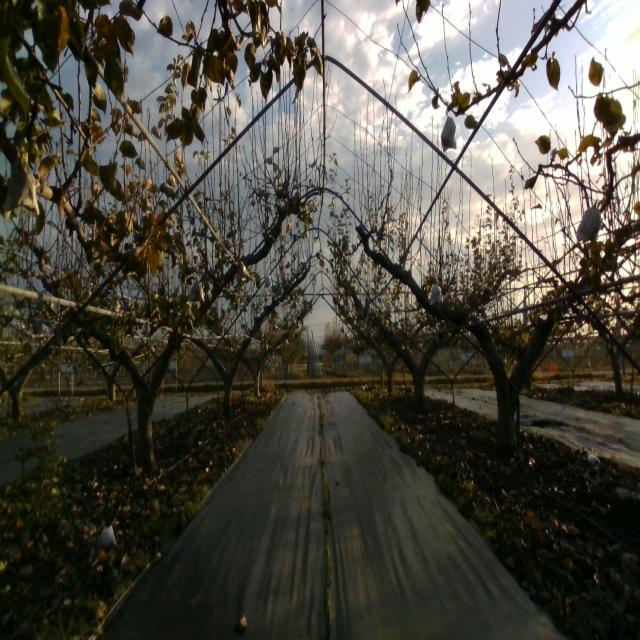pearbags: (2, 147, 40, 220), (576, 199, 602, 242), (441, 109, 456, 152), (190, 280, 206, 304), (429, 284, 444, 307), (237, 261, 251, 281)
